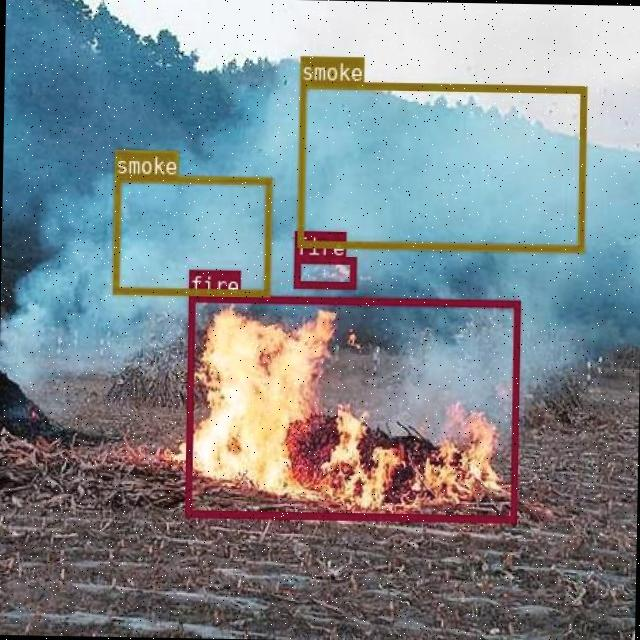fire: (184, 293, 519, 521), (293, 254, 355, 288)
smoke: (296, 80, 586, 250), (112, 173, 270, 294)
